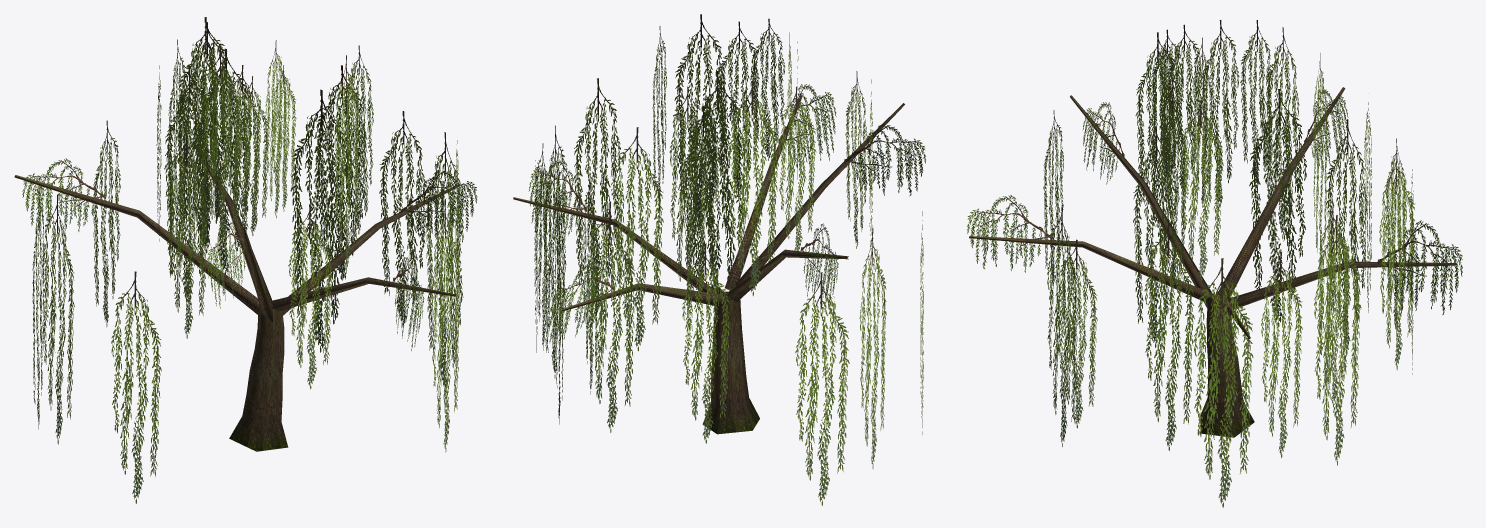
The model's file is willow03_lod2.glb.
3 views of the same model, side by side, from view 1: azimuth 30°, elevation 25°; view 2: azimuth 150°, elevation 25°; view 3: azimuth 270°, elevation 25° (orthographic). The views are drawn at different scales.
Parts seen in each view (by area): view 1: willow03_lod2; view 2: willow03_lod2; view 3: willow03_lod2.
Boxes of the visible parts, x1,y1,x2,y2 form: willow03_lod2: (14, 17, 477, 503); willow03_lod2: (513, 14, 925, 505); willow03_lod2: (967, 20, 1462, 507).
Size of the model in its own units: 83.69 by 81.32 by 96.54.
Materials: 3 (3 with a texture image).
